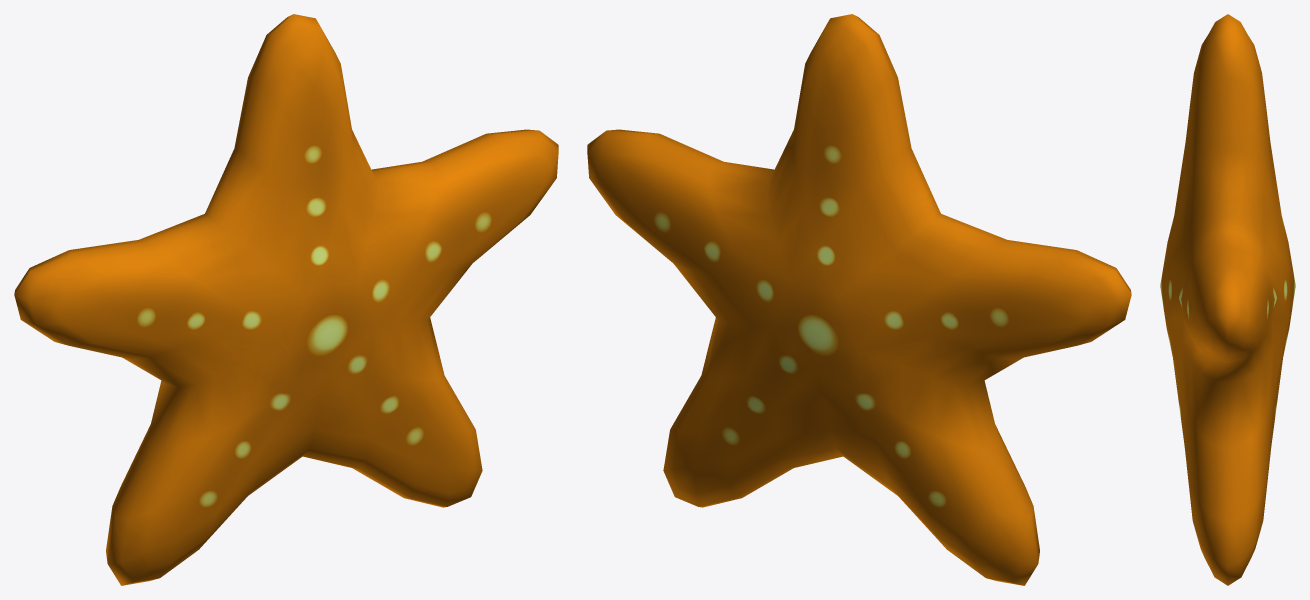
Rendered from 불가사리(주황.fbx.
3 renders of one model, left to right at view 1: azimuth 30°, elevation 25°; view 2: azimuth 150°, elevation 25°; view 3: azimuth 270°, elevation 25°, orthographic. The views are drawn at different scales.
Visible parts, largest first — view 1: Cylinder010; view 2: Cylinder010; view 3: Cylinder010.
Part boxes in pixels (<box>): Cylinder010: <box>14,14,558,585</box>; Cylinder010: <box>587,14,1131,585</box>; Cylinder010: <box>1160,14,1295,585</box>.
Bounding box in the file's own units: 42.34 × 9.77 × 39.54.
1 material, 1 textured.
